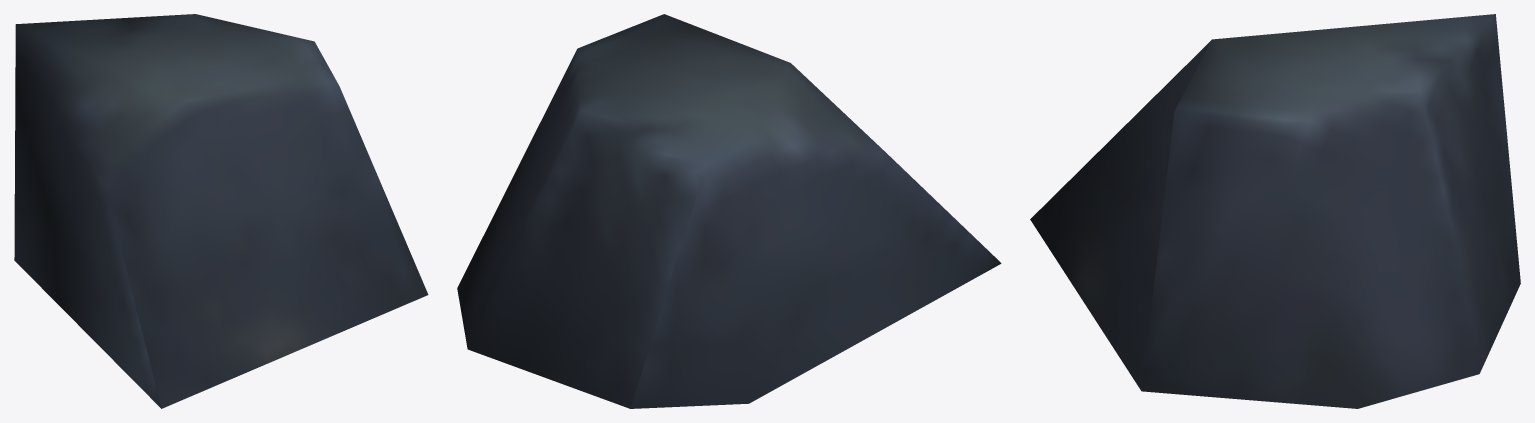
Rendered from Area_08_37.fbx.
3 renders of one model, left to right at view 1: azimuth 30°, elevation 25°; view 2: azimuth 150°, elevation 25°; view 3: azimuth 270°, elevation 25°, orthographic. The views are drawn at different scales.
Visible parts, largest first — view 1: Area_08_37; view 2: Area_08_37; view 3: Area_08_37.
Part boxes in pixels (x1,y1,x2,y2): Area_08_37: (14,14,428,408); Area_08_37: (457,14,1001,408); Area_08_37: (1030,14,1520,408).
Size of the model in its own units: 65.39 by 38.6 by 71.55.
